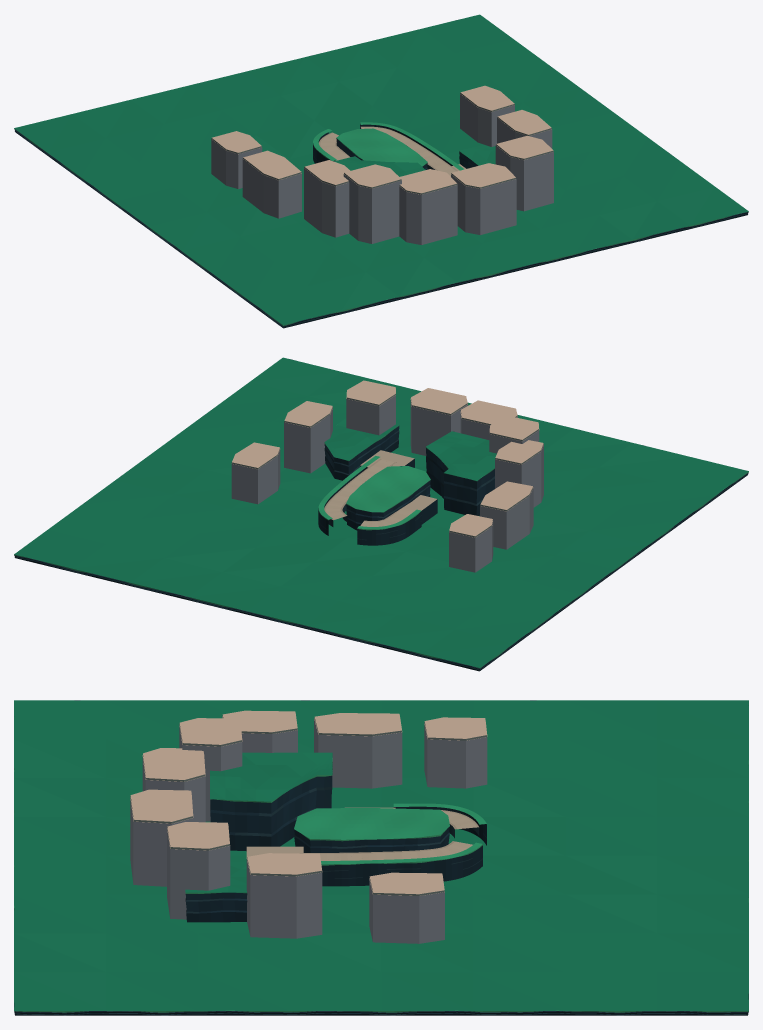
File: terrain.fbx
3 renders of one model, top to bottom at view 1: azimuth 30°, elevation 25°; view 2: azimuth 150°, elevation 25°; view 3: azimuth 270°, elevation 25°, orthographic. The views are drawn at different scales.
Visible parts, largest first — view 1: terrain; view 2: terrain; view 3: terrain.
Boxes of the visible parts, <box> form: terrain: <box>14,14,748,328</box>; terrain: <box>14,357,748,671</box>; terrain: <box>14,700,748,1015</box>.
Bounding box in the file's own units: 60 × 7.46 × 60.
